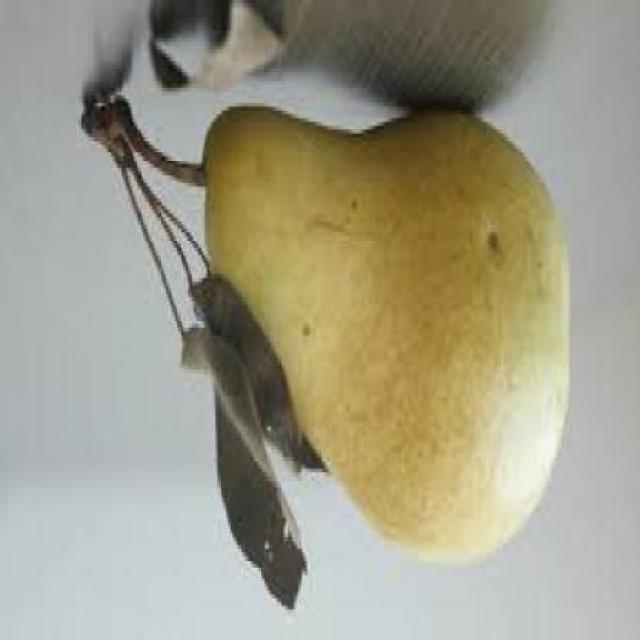BIODEGRADABLE: (199, 103, 572, 568), (182, 325, 308, 617), (192, 274, 337, 480)
